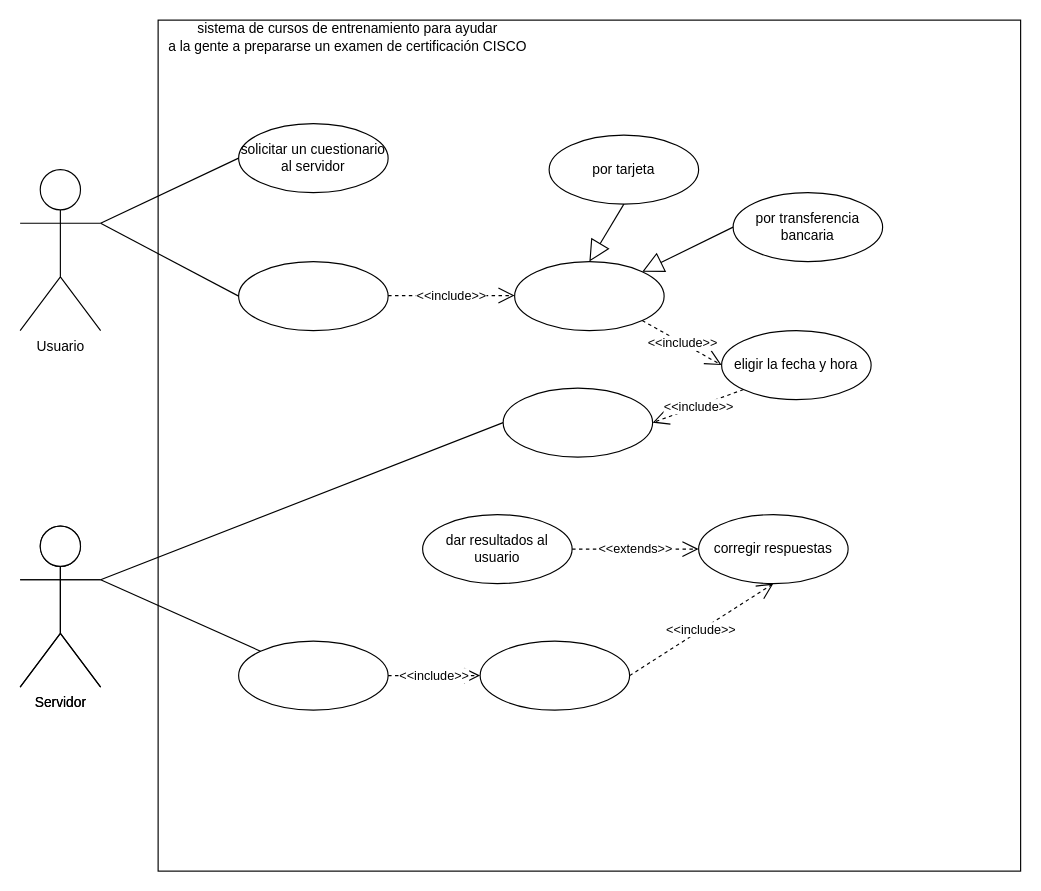
The diagram is 1041 pixels wide and 891 high, and some of its shapes have lost their labels. Each missing label, with the centre of its shape:
crea un cuestionario: the point at 554,675
matricularse al examen: the point at 312,295
realizar pago: the point at 588,295
sacar un listado de fechas disponibles: the point at 577,422
toma una bateria de preguntas de forma aleatoria: the point at 312,675
